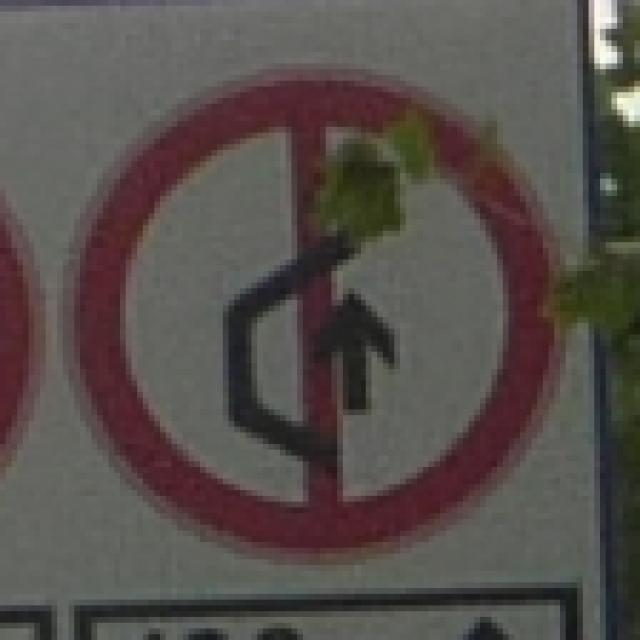Not that Direction: (73, 71, 570, 556)
